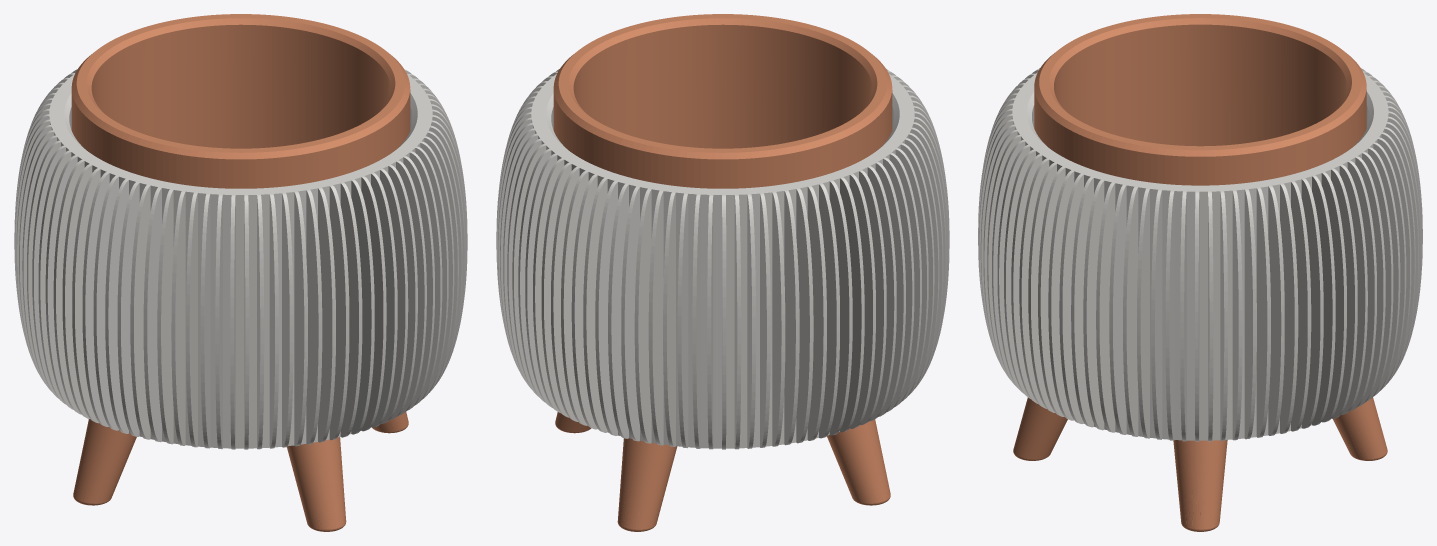
The model's file is stria_orbis_p.glb.
The picture shows the model from 3 angles, left to right: view 1: azimuth 30°, elevation 25°; view 2: azimuth 150°, elevation 25°; view 3: azimuth 270°, elevation 25°; orthographic projection.
Parts seen in each view (by area): view 1: parte_1, parte_2; view 2: parte_1, parte_2; view 3: parte_1, parte_2.
Boxes of the visible parts, x1,y1,x2,y2 form: parte_1: [14, 69, 467, 449]; parte_2: [71, 14, 410, 531]; parte_1: [496, 69, 949, 449]; parte_2: [553, 14, 892, 531]; parte_1: [978, 68, 1422, 441]; parte_2: [1013, 14, 1387, 531].
Size of the model in its own units: 0.091 by 0.0839 by 0.091.
